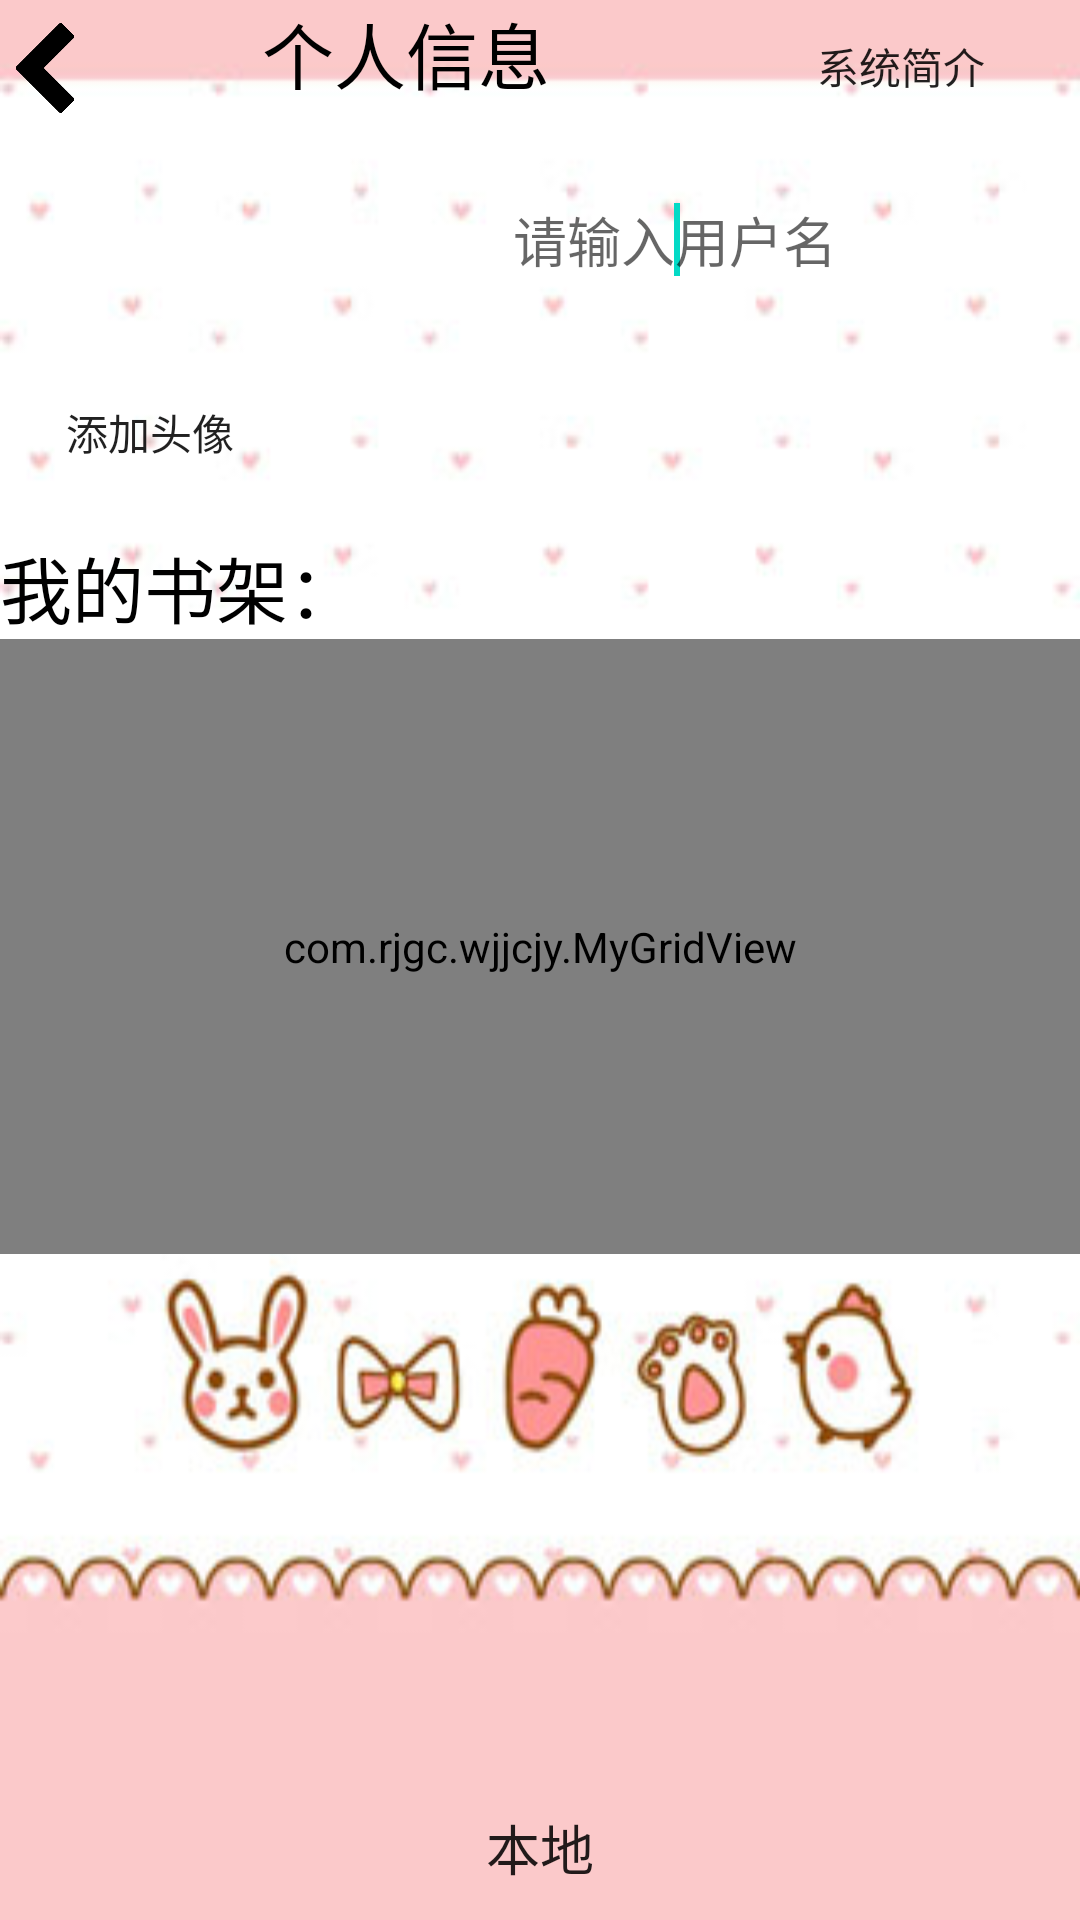

Named icons in this screenshot (1080x1920) and their centers, (x,y):
back: (45,68)
